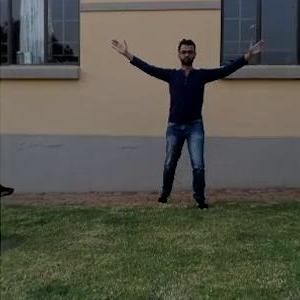takeoff: (111, 30, 271, 210)
